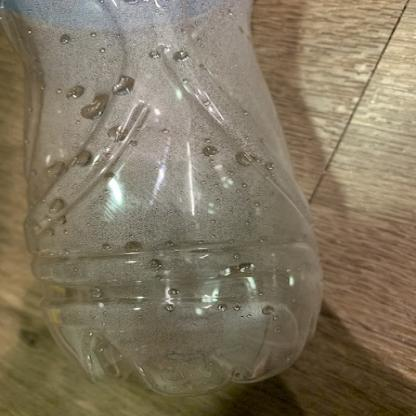trash: (0, 0, 327, 400)
